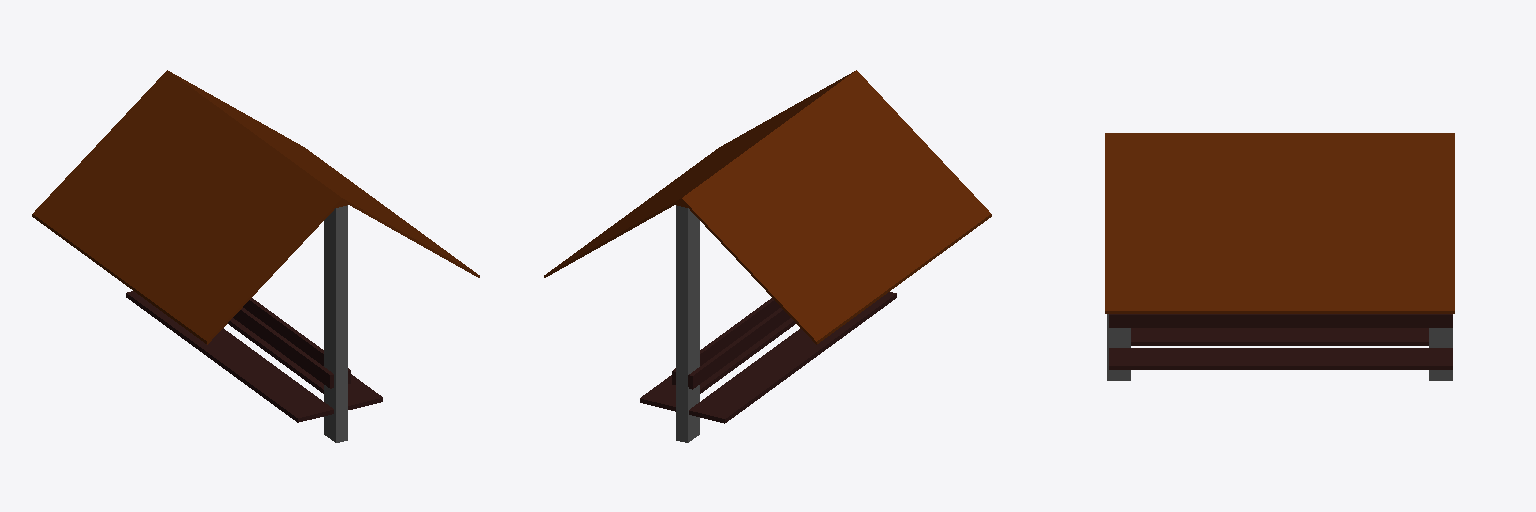
The model's file is Roof.obj.
The picture shows the model from 3 angles: view 1: azimuth 30°, elevation 25°; view 2: azimuth 150°, elevation 25°; view 3: azimuth 270°, elevation 25°; orthographic projection.
Parts seen in each view (by area): view 1: Cube, Cube.001, Cube.004, Cube.005, Cube.003, Cube.006; view 2: Cube, Cube.002, Cube.004, Cube.005, Cube.003, Cube.006; view 3: Cube, Cube.003, Cube.004, Cube.006, Cube.001, Cube.002.
Part boxes in pixels (left/top/right/bottom): Cube: left=32, top=70, right=479, bottom=344; Cube.001: left=324, top=205, right=347, bottom=442; Cube.004: left=126, top=291, right=333, bottom=422; Cube.005: left=233, top=308, right=333, bottom=388; Cube.003: left=228, top=318, right=382, bottom=409; Cube.006: left=243, top=298, right=350, bottom=383; Cube: left=544, top=70, right=991, bottom=344; Cube.002: left=676, top=205, right=699, bottom=442; Cube.004: left=689, top=292, right=896, bottom=423; Cube.005: left=688, top=308, right=790, bottom=389; Cube.003: left=640, top=318, right=795, bottom=411; Cube.006: left=672, top=298, right=780, bottom=384; Cube: left=1105, top=133, right=1454, bottom=313; Cube.003: left=1109, top=348, right=1452, bottom=369; Cube.004: left=1131, top=328, right=1428, bottom=345; Cube.006: left=1109, top=314, right=1452, bottom=327; Cube.001: left=1107, top=314, right=1130, bottom=380; Cube.002: left=1429, top=328, right=1452, bottom=380.
Size of the model in its own units: 11.56 by 9.93 by 12.87.